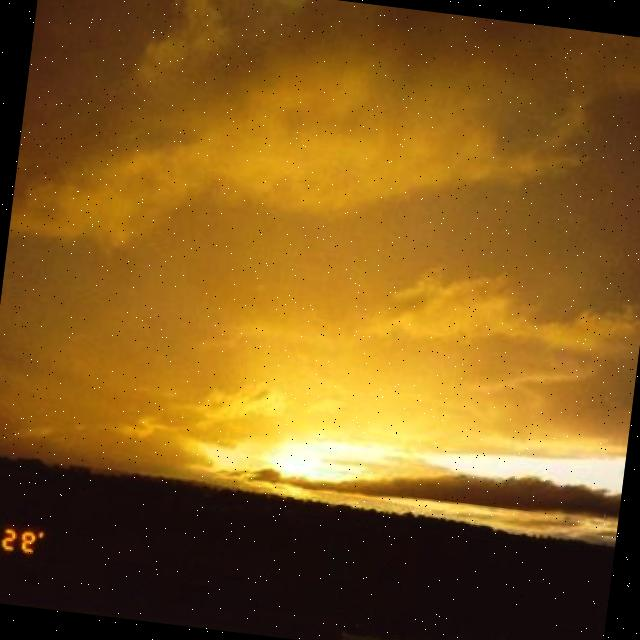St: (1, 1, 640, 480)
